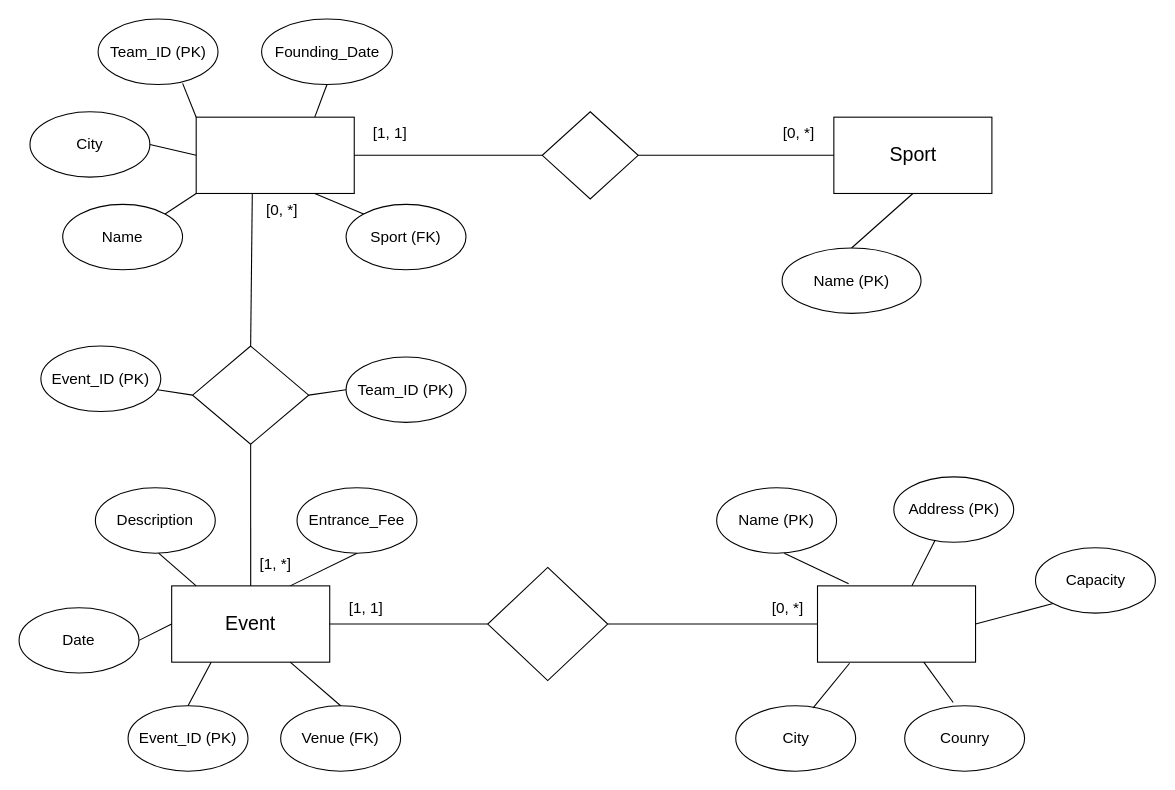
Image size: 1175x790. Some labels were removed from this diagram. Here are the shapes that lost their labels. From the top down, the centre of each, then its label:
At pixel 274 154: "Team".
At pixel 589 155: "plays".
At pixel 250 394: "participates".
At pixel 547 623: "takes place at".
At pixel 896 623: "Venue".
